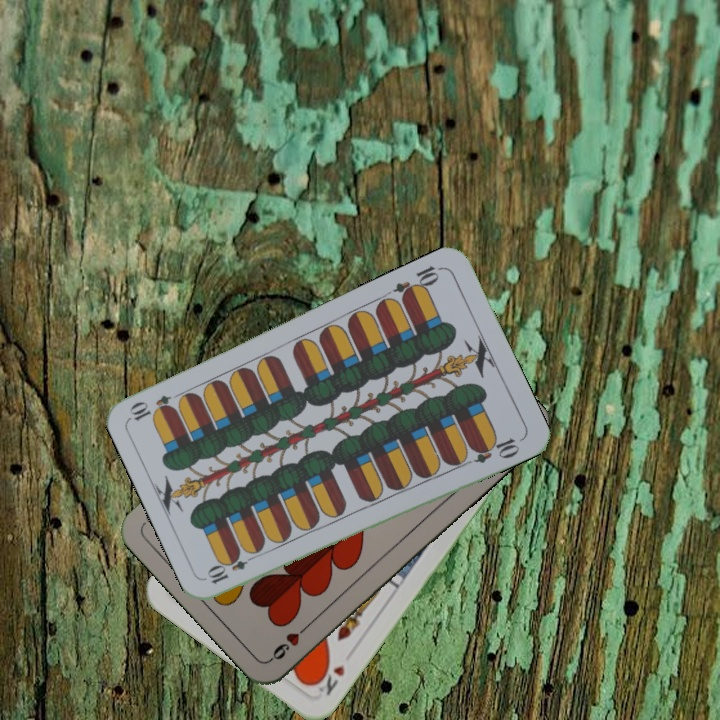E10: (390, 261, 445, 304), (203, 548, 260, 587)
H9: (266, 619, 313, 664)
HK: (309, 659, 348, 699)
